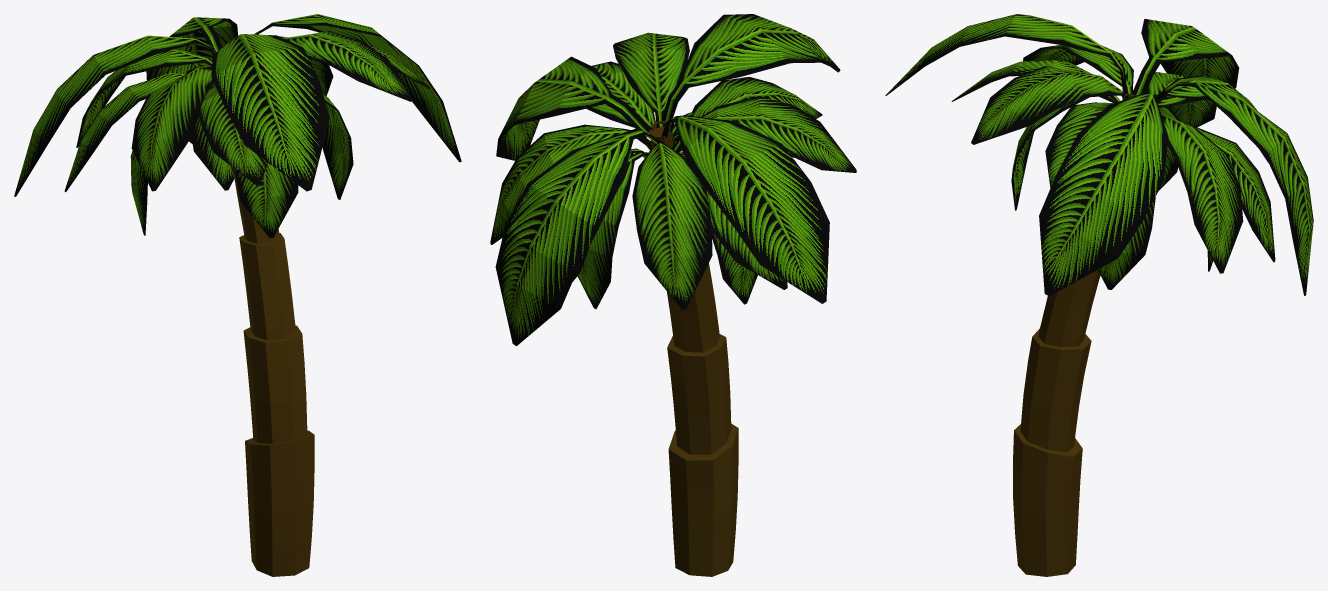
The model's file is Palmera.fbx.
3 renders of one model, left to right at view 1: azimuth 30°, elevation 25°; view 2: azimuth 150°, elevation 25°; view 3: azimuth 270°, elevation 25°, orthographic.
Visible parts, largest first — view 1: Palmera; view 2: Palmera; view 3: Palmera.
Boxes of the visible parts, x1,y1,x2,y2 form: Palmera: (14, 14, 461, 576); Palmera: (490, 14, 856, 576); Palmera: (885, 14, 1313, 576).
Bounding box in the file's own units: 418 × 569 × 415.
